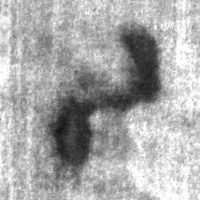patches: (106, 25, 163, 114), (50, 97, 95, 169)
